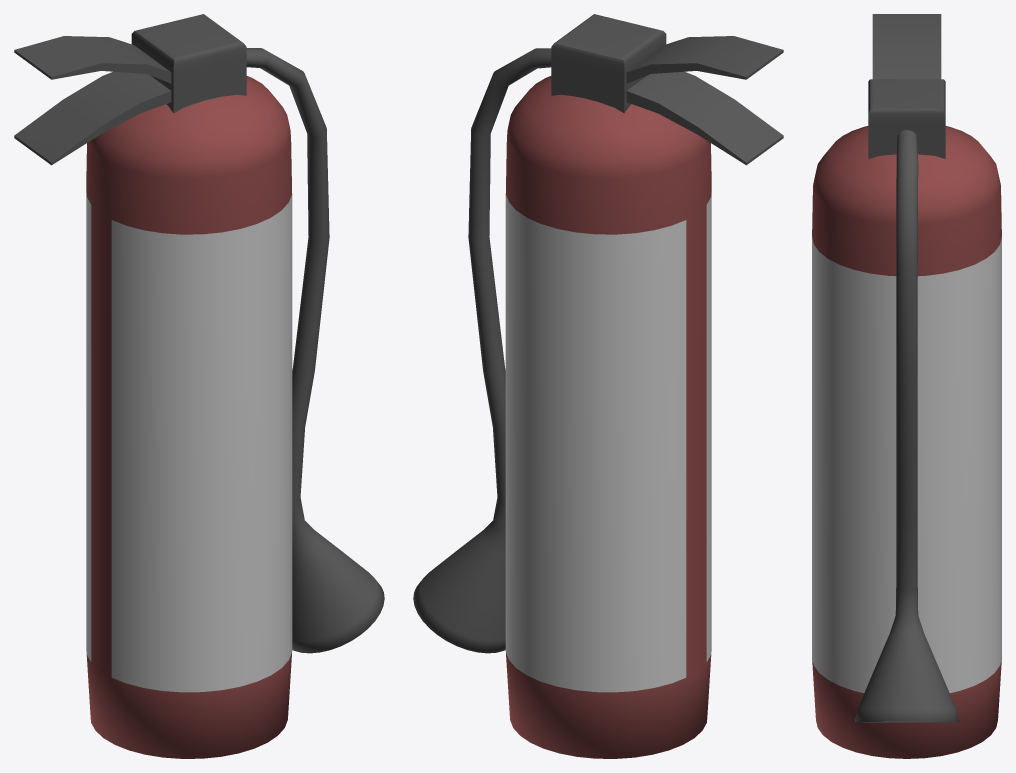
File: Elements_FireExtinguisher.fbx
The picture shows the model from 3 angles, left to right: view 1: azimuth 30°, elevation 25°; view 2: azimuth 150°, elevation 25°; view 3: azimuth 270°, elevation 25°; orthographic projection. The views are drawn at different scales.
Visible parts, largest first — view 1: Body, Trigger, Hose; view 2: Body, Trigger, Hose; view 3: Body, Hose, Trigger.
Boxes of the visible parts, <box> form: Body: <box>86,76,292,758</box>; Trigger: <box>14,14,246,165</box>; Hose: <box>246,48,384,653</box>; Body: <box>505,76,711,758</box>; Trigger: <box>551,14,783,165</box>; Hose: <box>413,48,551,653</box>; Body: <box>812,126,1001,758</box>; Hose: <box>854,130,959,722</box>; Trigger: <box>868,14,945,158</box>.
Bounding box in the file's own units: 2.61 × 5.06 × 1.36.
